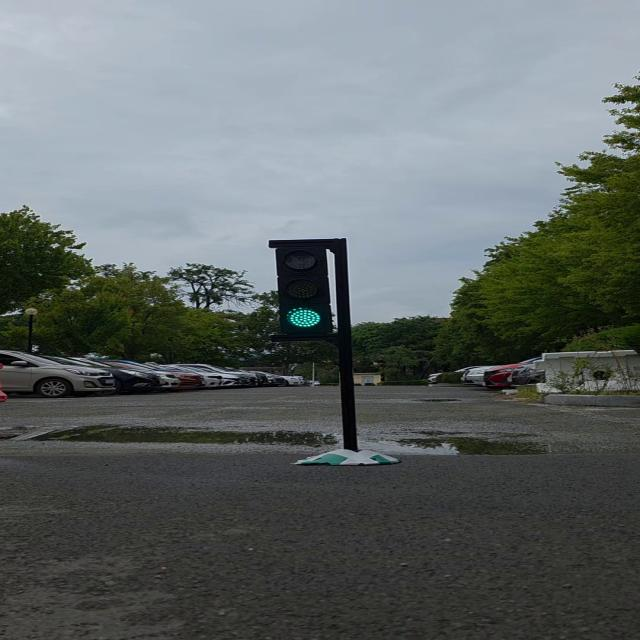green: (271, 238, 354, 338)
